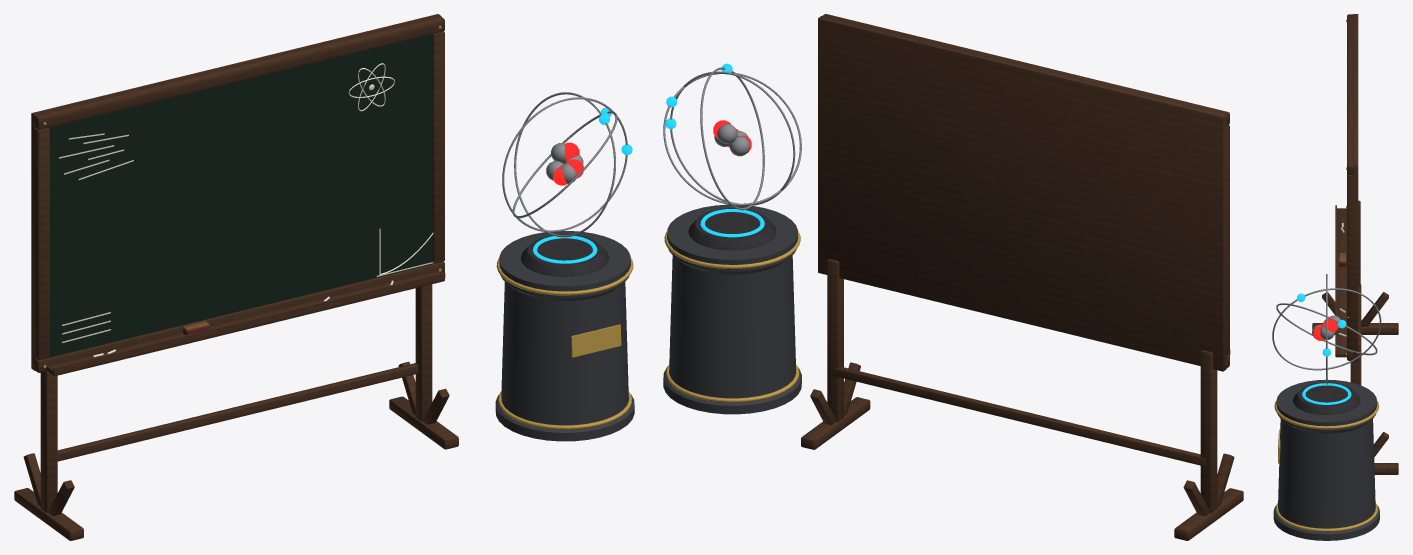
The model's file is blackboard_atom.glb.
3 renders of one model, left to right at view 1: azimuth 30°, elevation 25°; view 2: azimuth 150°, elevation 25°; view 3: azimuth 270°, elevation 25°, orthographic. The views are drawn at different scales.
Parts seen in each view (by area): view 1: boardAndPlinth, nucleus, orbitRing0, orbitRing2, orbitRing1; view 2: boardAndPlinth, orbitRing1, orbitRing0, nucleus, orbitRing2; view 3: boardAndPlinth, orbitRing2, orbitRing1, nucleus, orbitRing0.
Part boxes in pixels (x1=…): boardAndPlinth: x1=14, y1=14, x2=634, y2=540; nucleus: x1=546, y1=142, x2=583, y2=185; orbitRing0: x1=502, y1=97, x2=627, y2=232; orbitRing2: x1=514, y1=92, x2=615, y2=237; orbitRing1: x1=512, y1=111, x2=617, y2=218; boardAndPlinth: x1=663, y1=14, x2=1243, y2=540; orbitRing1: x1=663, y1=72, x2=801, y2=205; orbitRing0: x1=670, y1=71, x2=795, y2=205; nucleus: x1=713, y1=120, x2=751, y2=156; orbitRing2: x1=700, y1=67, x2=764, y2=210; boardAndPlinth: x1=1273, y1=14, x2=1398, y2=540; orbitRing2: x1=1272, y1=288, x2=1381, y2=370; orbitRing1: x1=1276, y1=303, x2=1377, y2=355; nucleus: x1=1312, y1=315, x2=1340, y2=340; orbitRing0: x1=1326, y1=274, x2=1327, y2=384.
Size of the model in its own units: 3.56 by 2.4 by 0.8795.
Materials: 11 (5 with a texture image).
